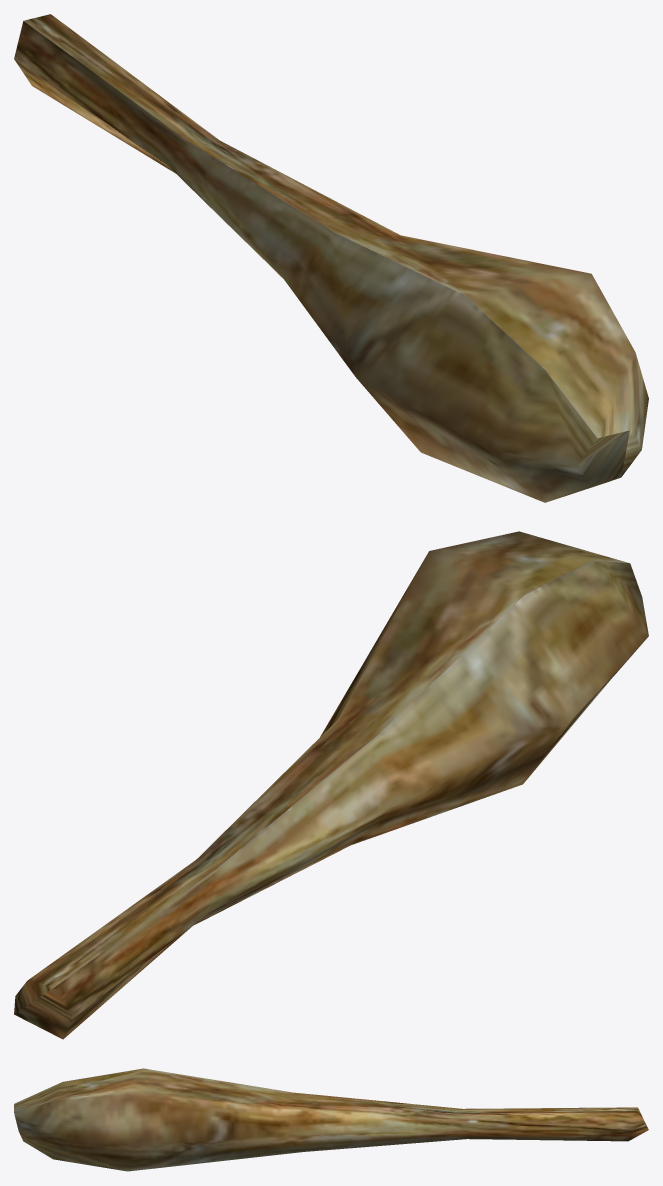
The model's file is wad.glb.
3 views of the same model, one above another, from view 1: azimuth 30°, elevation 25°; view 2: azimuth 150°, elevation 25°; view 3: azimuth 270°, elevation 25° (orthographic). The views are drawn at different scales.
Visible parts, largest first — view 1: wad; view 2: wad; view 3: wad.
Boxes of the visible parts, left/top/right/bottom form: wad: left=14, top=14, right=648, bottom=502; wad: left=14, top=531, right=648, bottom=1039; wad: left=14, top=1068, right=648, bottom=1171.
Size of the model in its own units: 0.181 by 0.1393 by 0.8498.
1 material, 1 textured.
